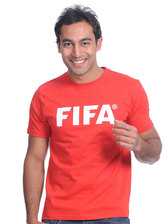clothoes: (24, 66, 152, 221)
